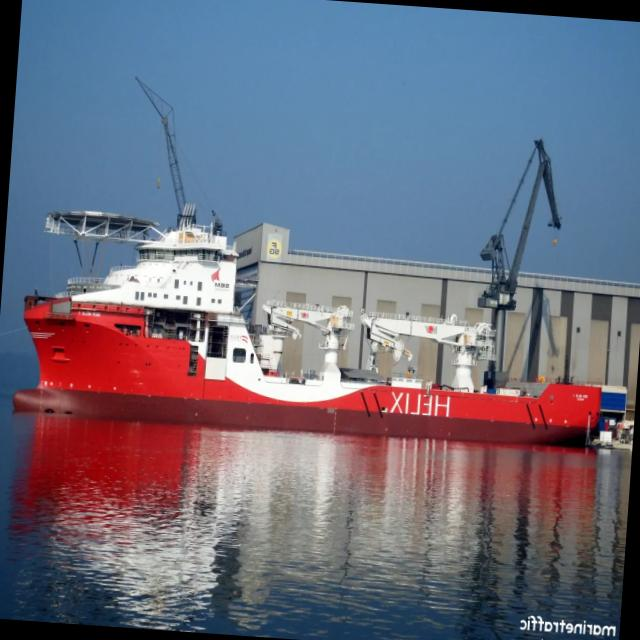Offshore: (14, 203, 610, 444)
